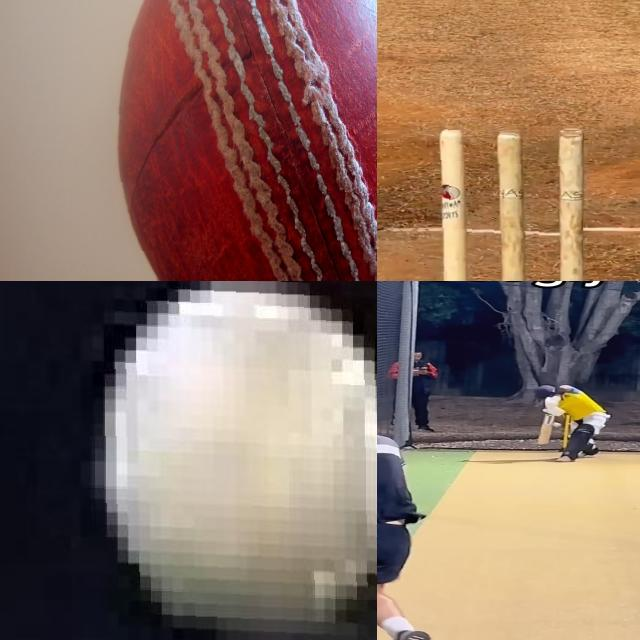Cricket ball: (88, 281, 377, 640), (98, 0, 377, 281), (552, 422, 562, 428)
Stumps: (436, 126, 582, 281)
